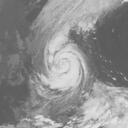cyclone: (28, 1, 124, 127)
